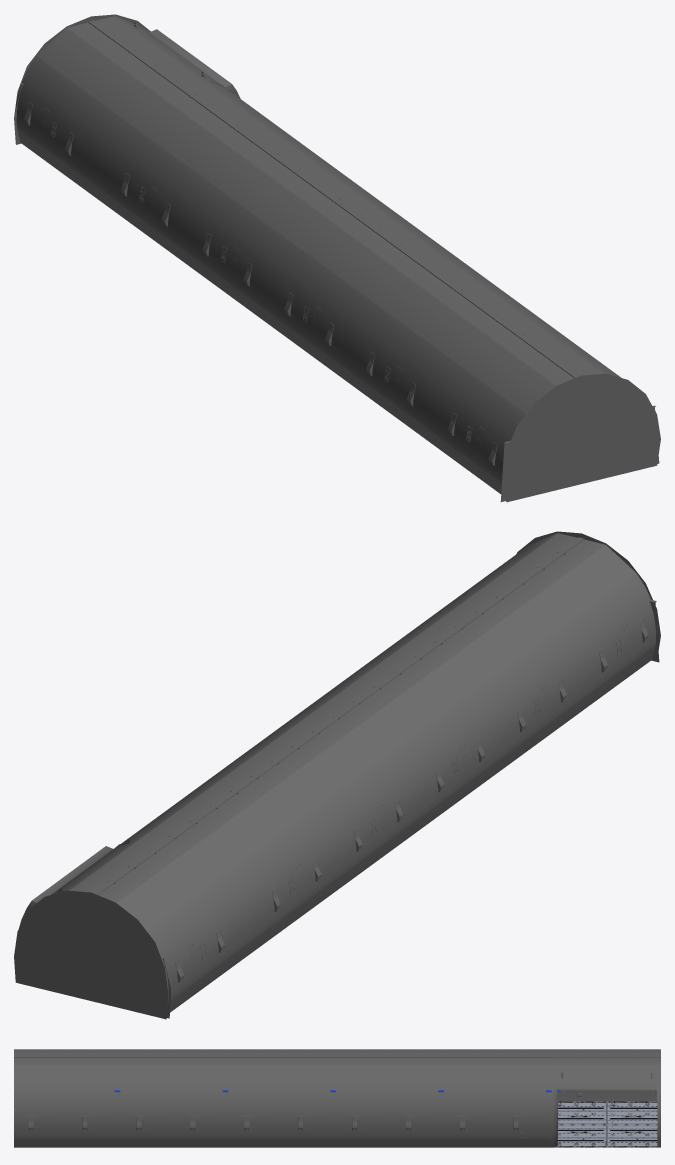
The model's file is SM_747_HigherDeck_02.fbx.
3 views of the same model, one above another, from view 1: azimuth 30°, elevation 25°; view 2: azimuth 150°, elevation 25°; view 3: azimuth 270°, elevation 25° (orthographic). The views are drawn at different scales.
Visible parts, largest first — view 1: SM_HigherDeck_LOD0; view 2: SM_HigherDeck_LOD0; view 3: SM_HigherDeck_LOD0, SM_747_HigherDeckPlane.
Boxes of the visible parts, left/top/right/bottom form: SM_HigherDeck_LOD0: left=14, top=14, right=660, bottom=502; SM_HigherDeck_LOD0: left=14, top=531, right=660, bottom=1019; SM_HigherDeck_LOD0: left=14, top=1049, right=660, bottom=1147; SM_747_HigherDeckPlane: left=554, top=1101, right=660, bottom=1147.
Bounding box in the file's own units: 565 × 3000 × 367.
3 materials, 1 textured.
